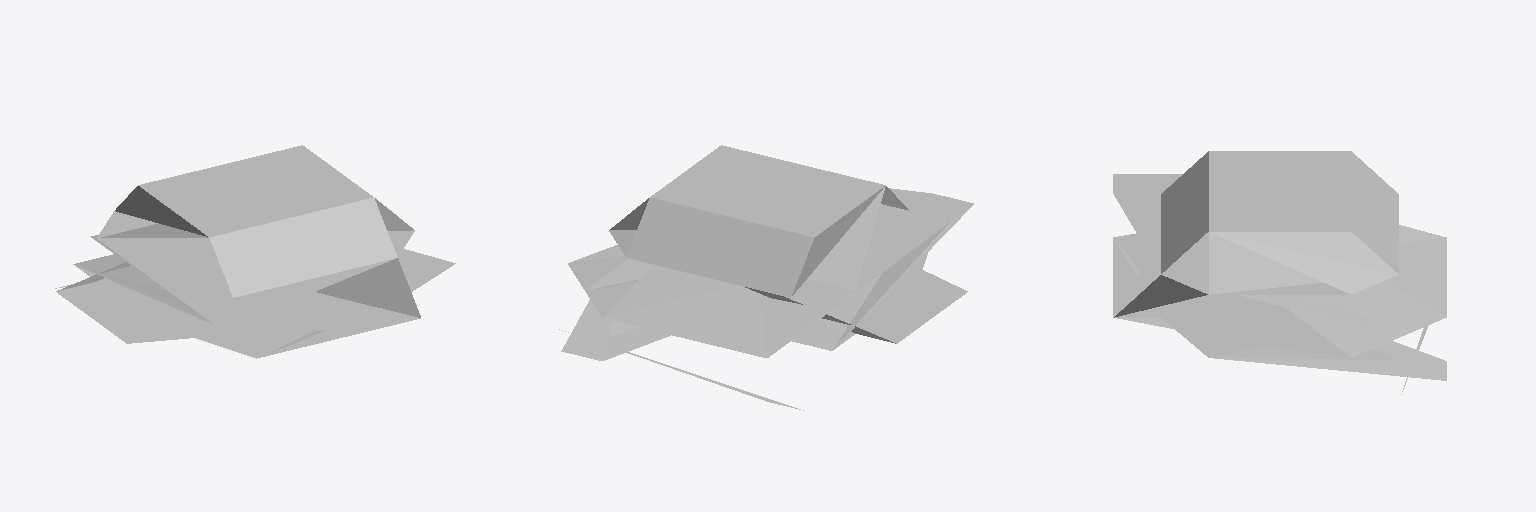
Rendered from Character0_Idle0.obj.
3 views of the same model, side by side, from view 1: azimuth 30°, elevation 25°; view 2: azimuth 150°, elevation 25°; view 3: azimuth 270°, elevation 25° (orthographic).
Size of the model in its own units: 8 by 3 by 7.